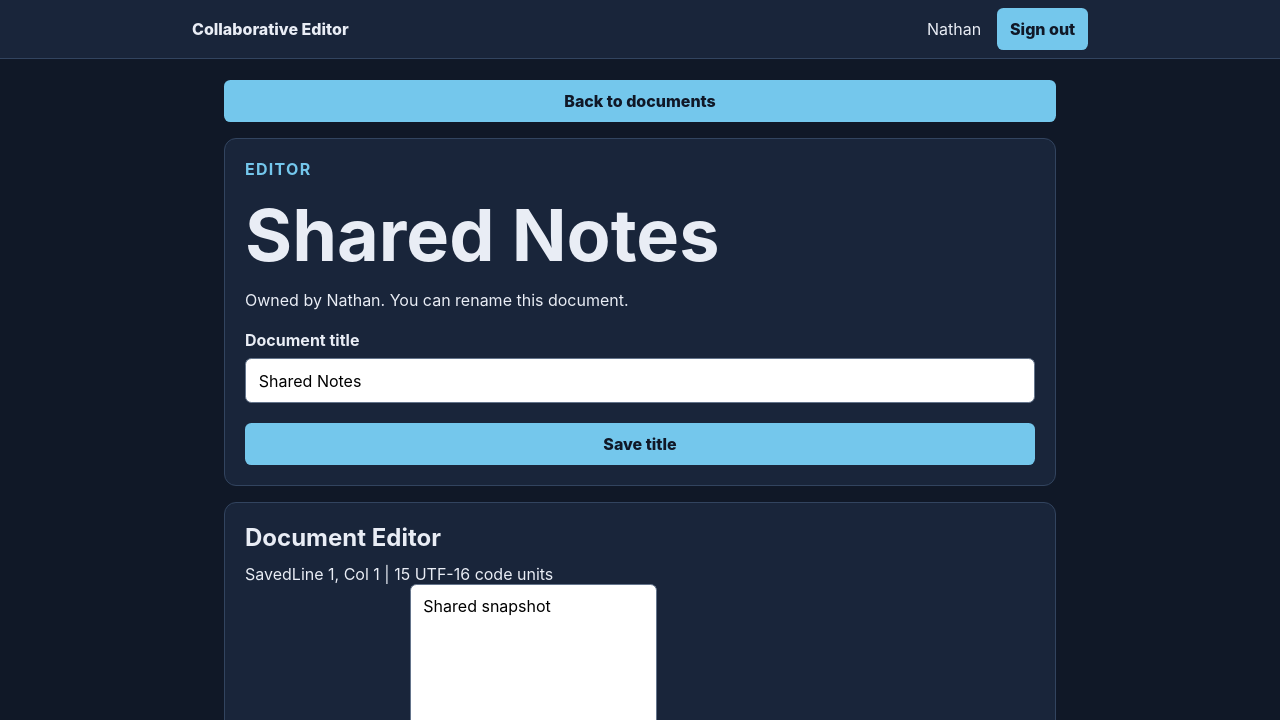
Test case: document management flows › shows editor behavior without owner-only sharing or deletion controls
Check: the text "Owned by Nathan. You can rename this document." is shown, box [245,290,629,310]
Step 1. Replace the text in the field labelled "Document title" with "Edited shared title" → (640, 381), box [245,358,1035,403]
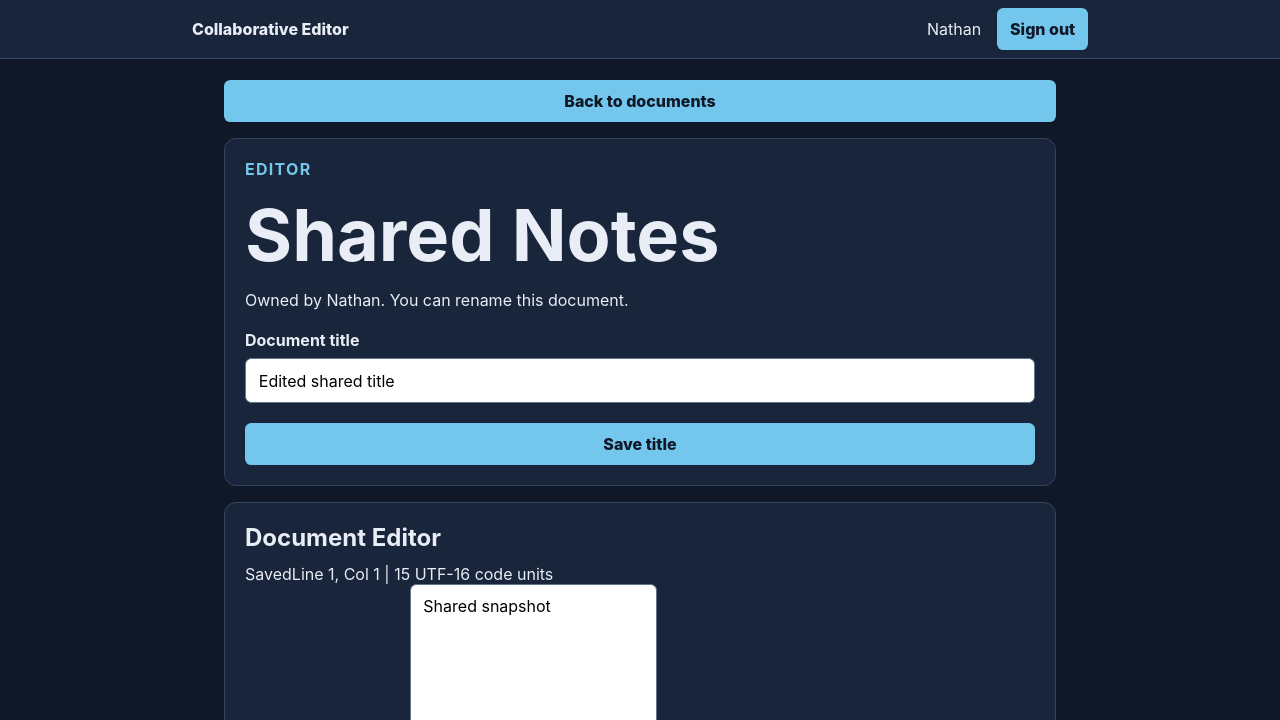
Step 2. Click the button "Save title" → (640, 444), box [245,423,1035,465]
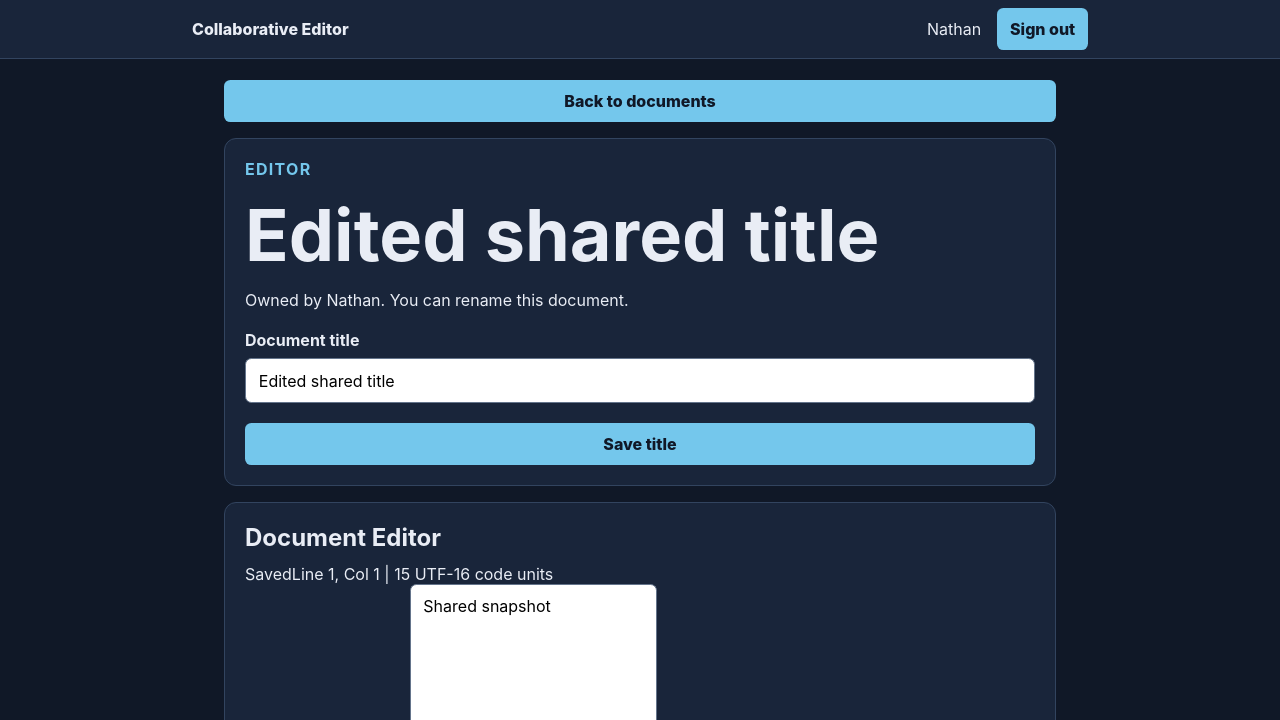
Check: the heading "Edited shared title" is shown, box [245,191,879,278]
